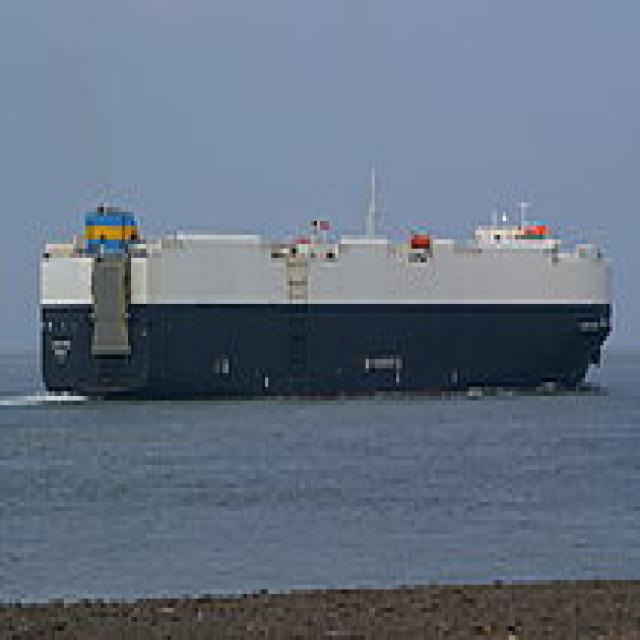Carrier: (33, 161, 612, 396)
